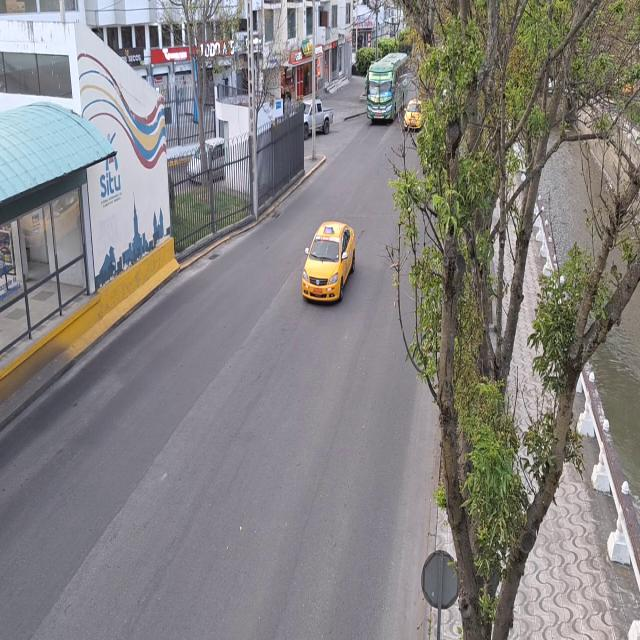BUS: (364, 63, 396, 122)
SED: (302, 224, 354, 298)
